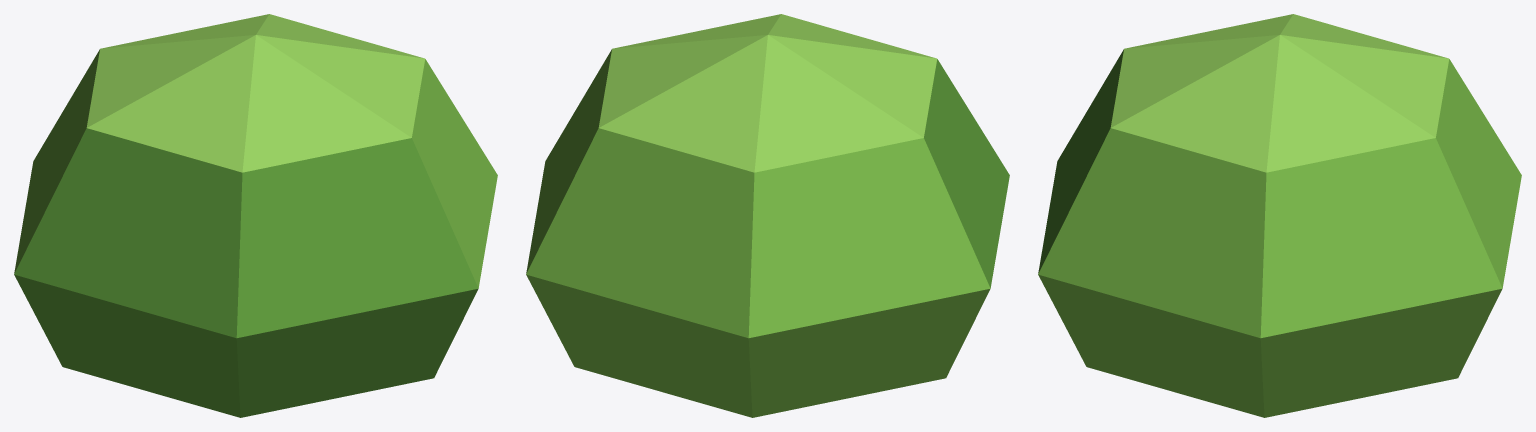
Rendered from plant_bush.glb.
The picture shows the model from 3 angles, left to right: view 1: azimuth 30°, elevation 25°; view 2: azimuth 150°, elevation 25°; view 3: azimuth 270°, elevation 25°; orthographic projection.
Parts seen in each view (by area): view 1: plant_bush; view 2: plant_bush; view 3: plant_bush.
Boxes of the visible parts, bbox=[...] form: plant_bush: bbox=[14, 14, 497, 417]; plant_bush: bbox=[526, 14, 1009, 417]; plant_bush: bbox=[1038, 14, 1521, 417].
Size of the model in its own units: 0.399 by 0.24 by 0.3599.
Materials: 1 (1 with a texture image).
